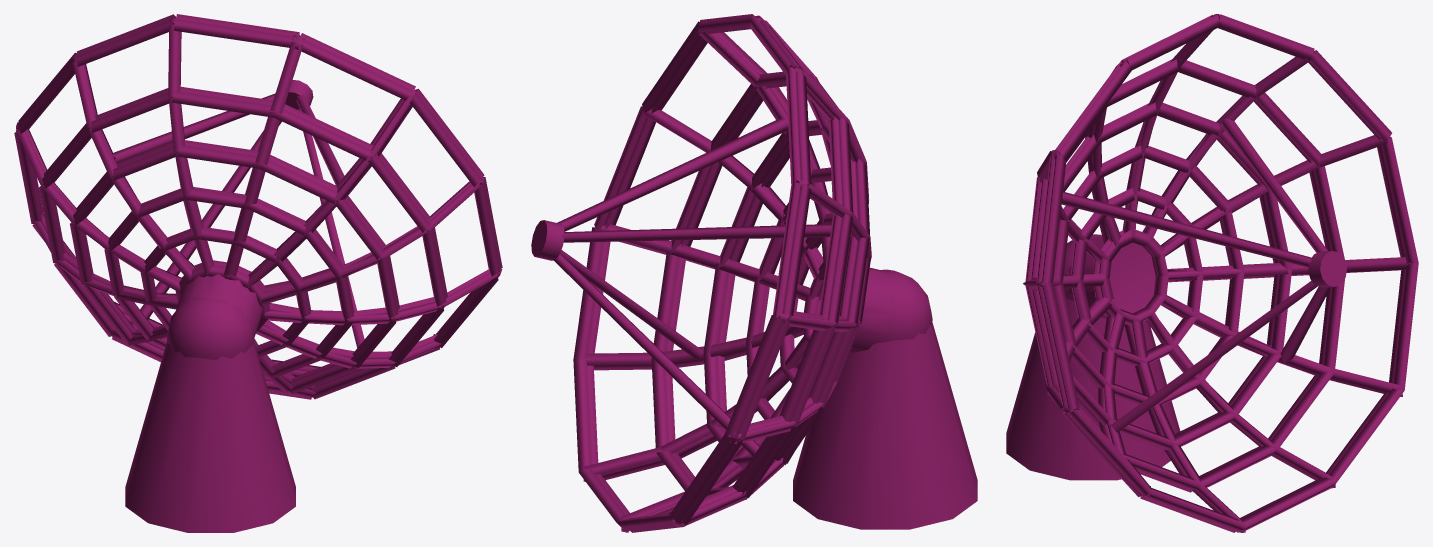
File: LargeBlockRadarRynAR.fbx
3 renders of one model, left to right at view 1: azimuth 30°, elevation 25°; view 2: azimuth 150°, elevation 25°; view 3: azimuth 270°, elevation 25°, orthographic. The views are drawn at different scales.
Parts seen in each view (by area): view 1: Dish, Base, Strut004, Ball, Mount; view 2: Dish, Base, Strut004, Ball, Mount, Antenna; view 3: Dish, Base, Strut004, Mount, Antenna.
Boxes of the visible parts, <box> form: Dish: <box>14,14,502,399</box>; Base: <box>125,340,295,532</box>; Strut004: <box>113,93,364,347</box>; Ball: <box>167,297,254,360</box>; Mount: <box>176,273,262,337</box>; Dish: <box>573,14,871,532</box>; Base: <box>793,322,977,529</box>; Strut004: <box>552,118,851,455</box>; Ball: <box>878,269,932,342</box>; Mount: <box>849,267,895,353</box>; Antenna: <box>531,220,564,260</box>; Dish: <box>1023,14,1418,532</box>; Base: <box>1006,298,1180,480</box>; Strut004: <box>1061,118,1330,432</box>; Mount: <box>1068,237,1155,318</box>; Antenna: <box>1308,251,1346,287</box>.
Bounding box in the file's own units: 5.79 × 6.74 × 5.7.
